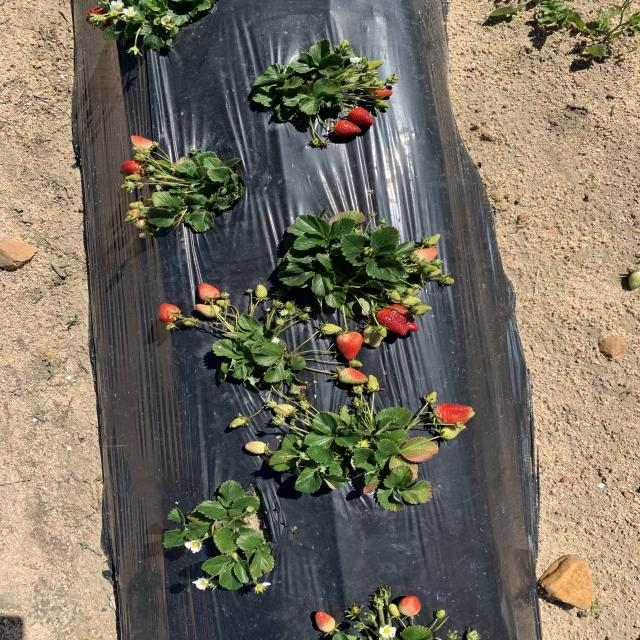unripe: (371, 302, 422, 337), (435, 404, 476, 426), (336, 330, 364, 360), (115, 158, 154, 178), (84, 8, 114, 31), (348, 107, 376, 127), (332, 119, 362, 137), (156, 303, 182, 323), (198, 283, 222, 301), (366, 85, 394, 96)
